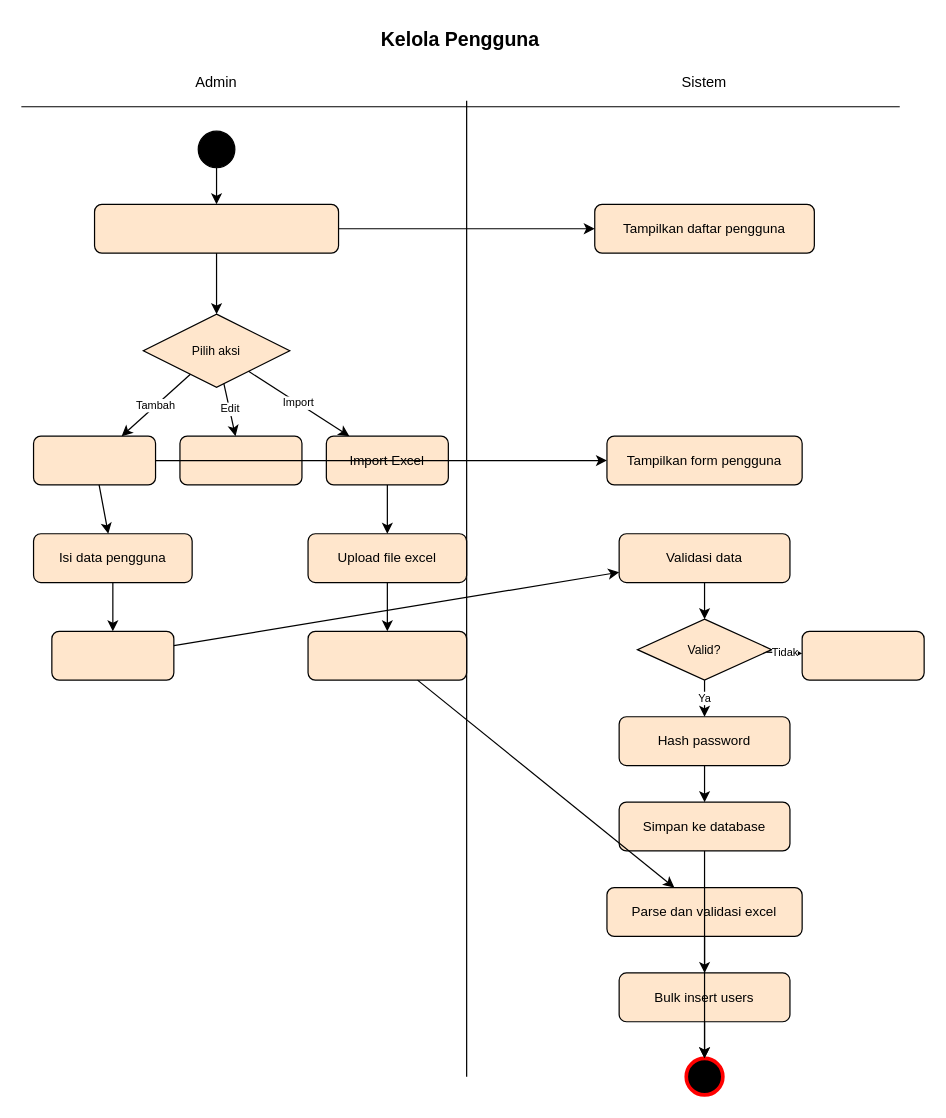
This 946x1118 diagram has some shape labels left out. The shapes that lost their labels are listed below. From the top down, each one's centre as x and y in pixels, then its label:
the point at 216,228: Akses menu kelola pengguna
the point at 94,460: Tambah user
the point at 240,460: Edit user
the point at 112,655: Submit
the point at 387,655: Konfirmasi import
the point at 862,655: Tampilkan error
